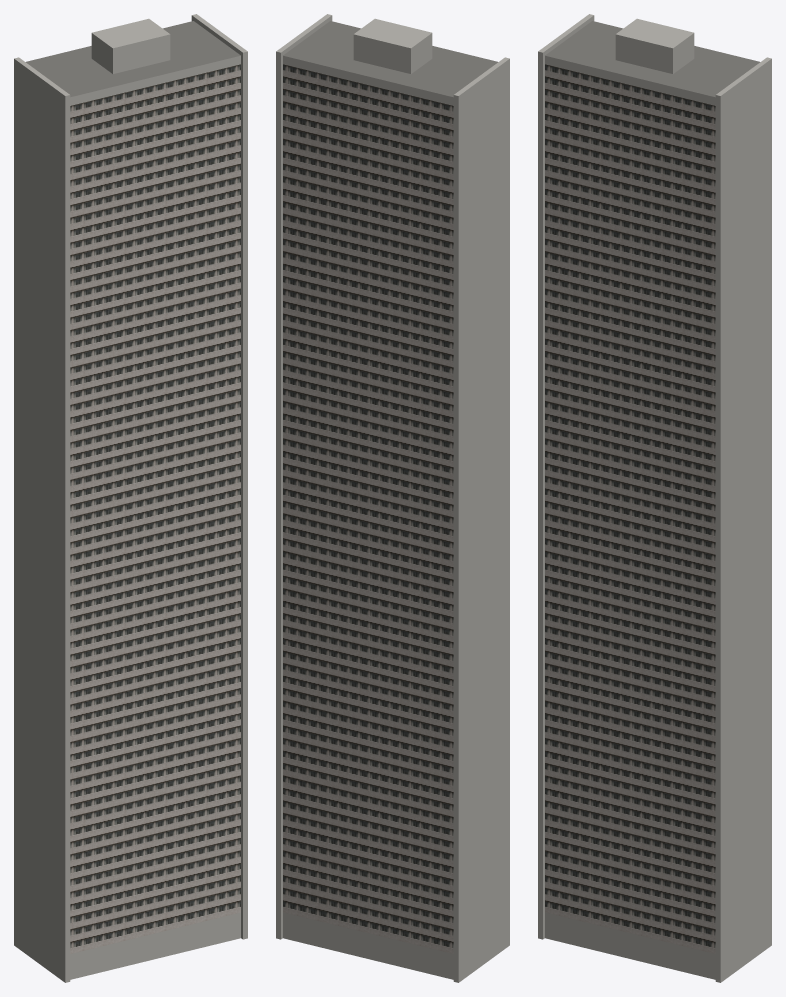
File: gen_tall_concrete_resi.glb
3 views of the same model, side by side, from view 1: azimuth 30°, elevation 25°; view 2: azimuth 150°, elevation 25°; view 3: azimuth 330°, elevation 25° (orthographic).
Visible parts, largest first — view 1: gen_tall_concrete_resi; view 2: gen_tall_concrete_resi; view 3: gen_tall_concrete_resi.
Part boxes in pixels (bbox=[...]): gen_tall_concrete_resi: bbox=[14, 14, 247, 982]; gen_tall_concrete_resi: bbox=[276, 14, 509, 982]; gen_tall_concrete_resi: bbox=[538, 14, 771, 982].
Size of the model in its own units: 44.4 by 211 by 21.6.
2 materials, 2 textured.
